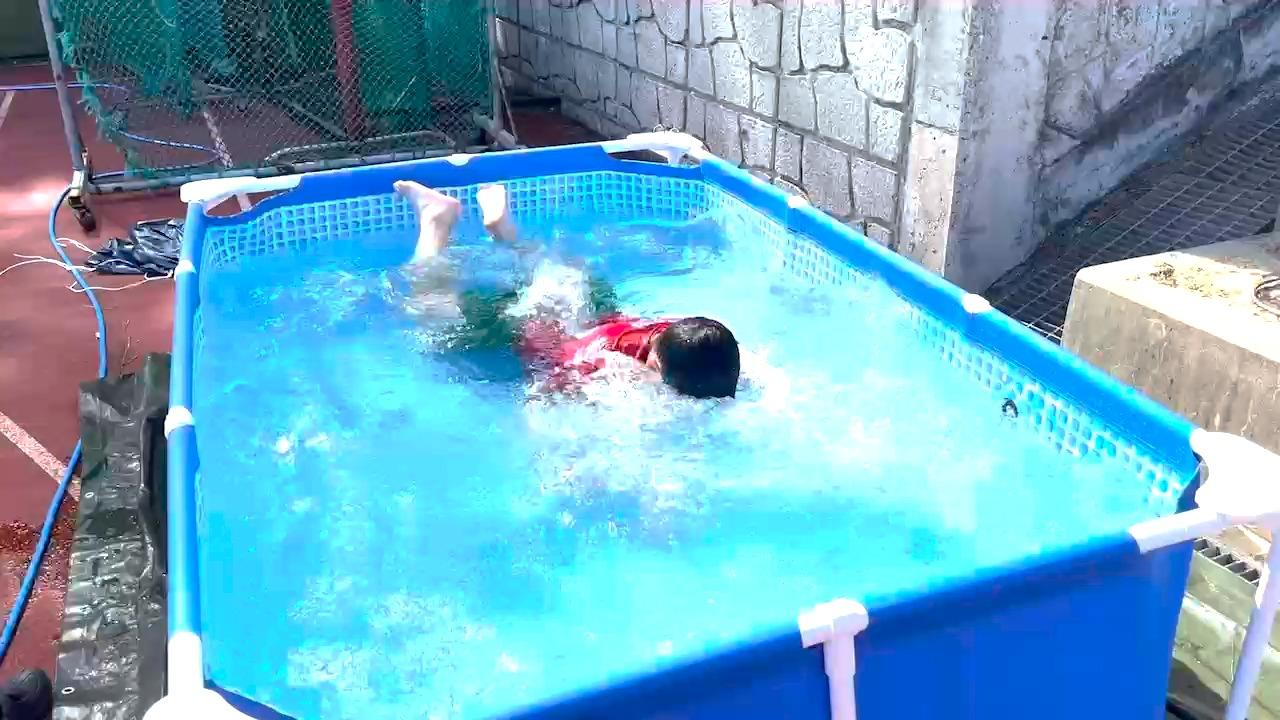Drowning: (414, 183, 771, 457)
